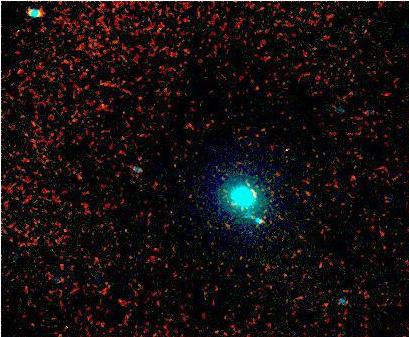star: (48, 310, 78, 337)
